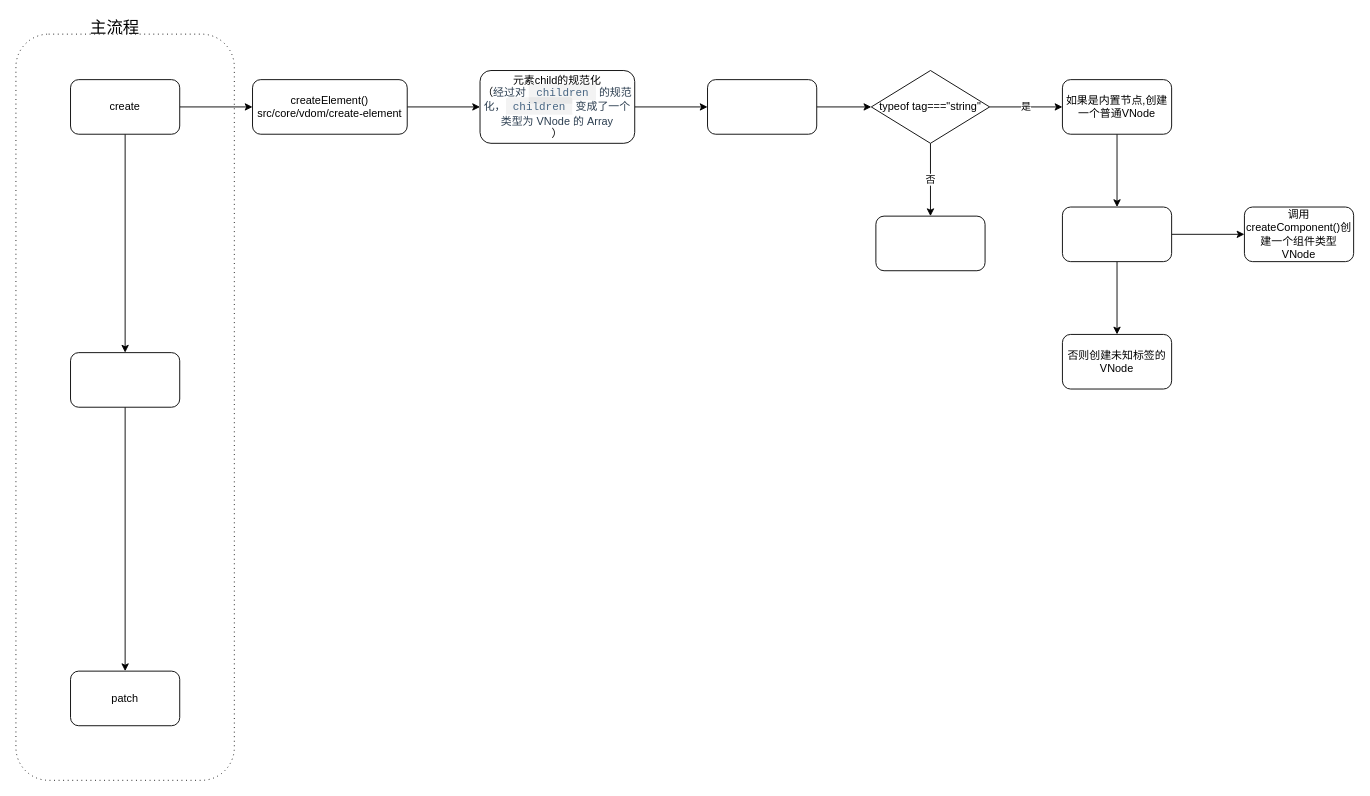
Some shapes in this 1370 by 796 pixel diagram are drawn without their labels. The centre of each missing label's shape, as x and y in pixels:
"diff" goes at (x=125, y=379).
"创建一个VNode" goes at (x=762, y=106).
"如果是为已注册的组件名" goes at (x=1117, y=234).
"调用createComponent()创建组件类型VNode" goes at (x=930, y=243).
